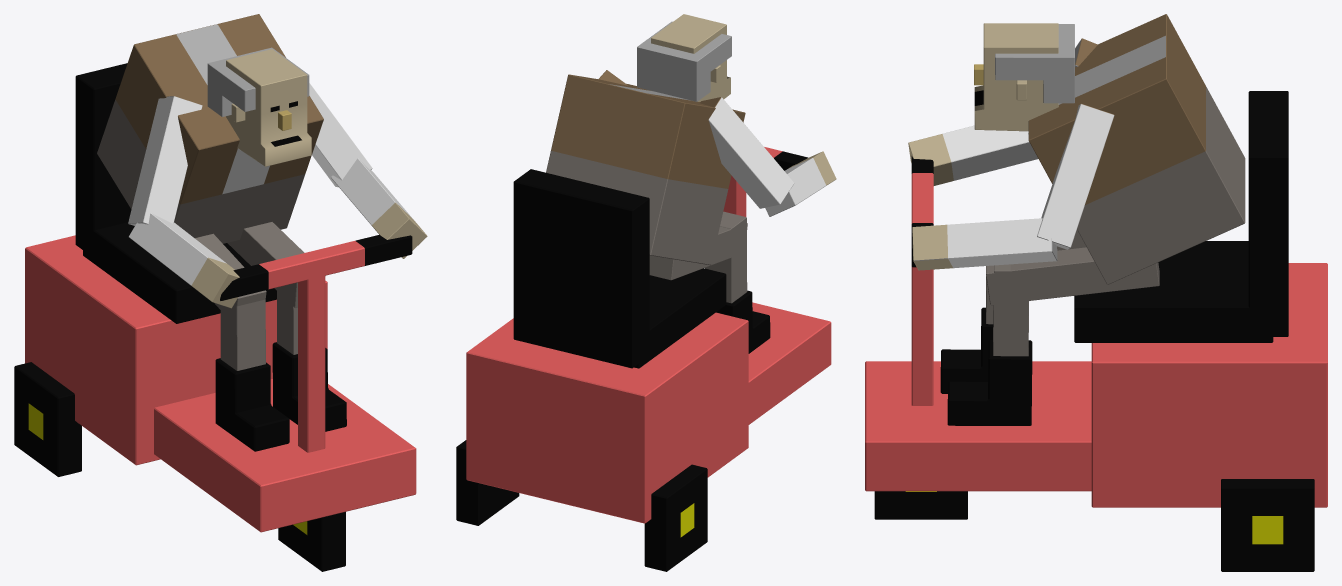
The model's file is old_man_no_work_sim.fbx.
3 renders of one model, left to right at view 1: azimuth 30°, elevation 25°; view 2: azimuth 150°, elevation 25°; view 3: azimuth 270°, elevation 25°, orthographic. The views are drawn at different scales.
Visible parts, largest first — view 1: old_character; view 2: old_character; view 3: old_character.
Part boxes in pixels (x1,y1,x2,y2): old_character: (14,14,427,571); old_character: (456,14,836,571); old_character: (865,14,1327,571).
Size of the model in its own units: 0.8218 by 1.44 by 1.26.
